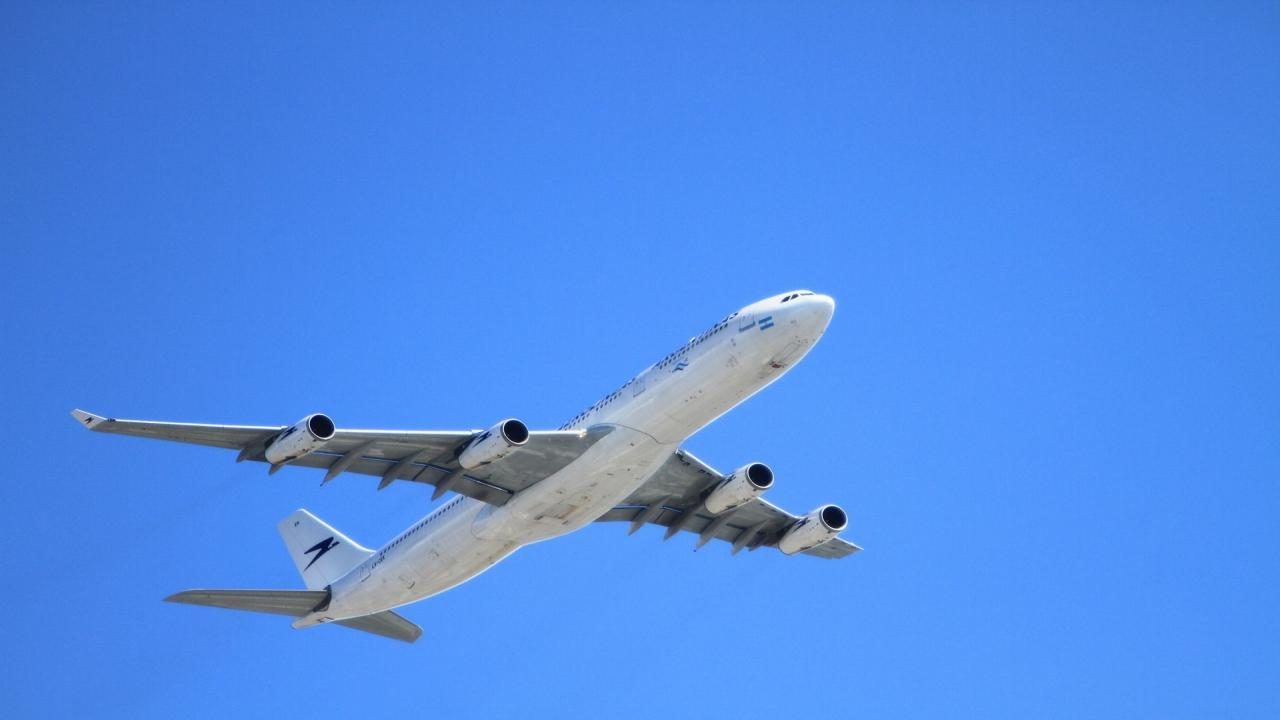Airplane: (59, 270, 874, 650)
